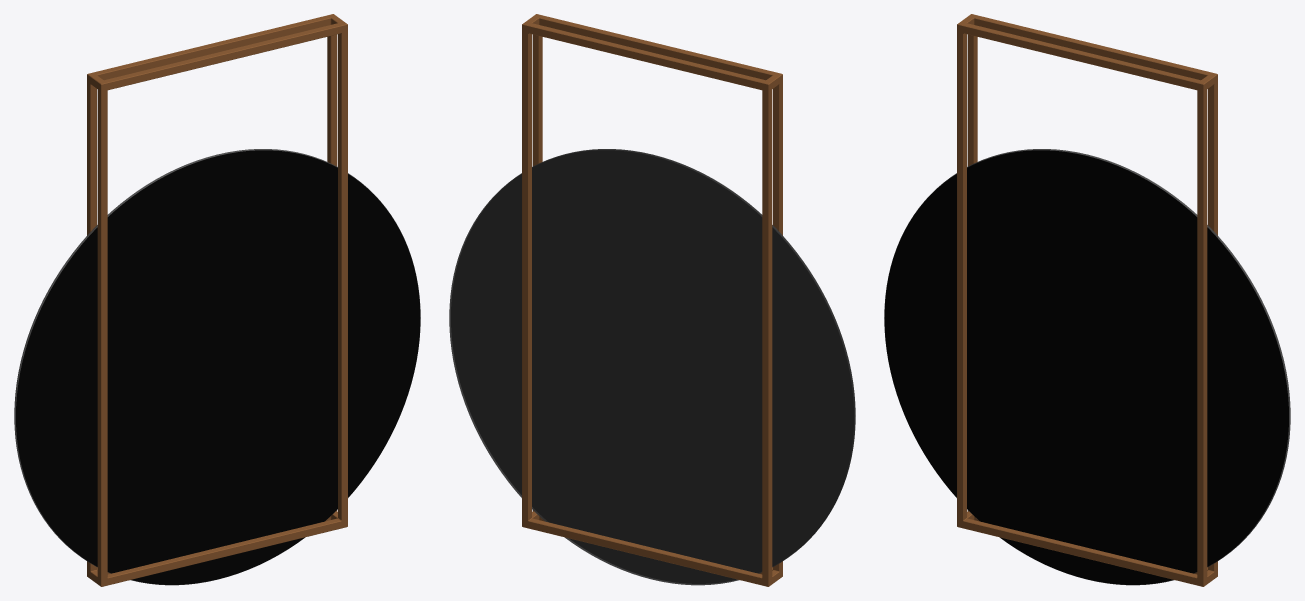
Rendered from CB2_Pendulum_Wall_Mirror.fbx.
The picture shows the model from 3 angles, left to right: view 1: azimuth 30°, elevation 25°; view 2: azimuth 150°, elevation 25°; view 3: azimuth 330°, elevation 25°; orthographic projection.
Parts seen in each view (by area): view 1: CB2_Pendulum_Wall_Mirror; view 2: CB2_Pendulum_Wall_Mirror; view 3: CB2_Pendulum_Wall_Mirror.
Boxes of the visible parts, x1,y1,x2,y2 form: CB2_Pendulum_Wall_Mirror: (14,14,420,586); CB2_Pendulum_Wall_Mirror: (449,14,855,586); CB2_Pendulum_Wall_Mirror: (884,14,1290,586).
Size of the model in its own units: 81.3 by 5 by 102.
